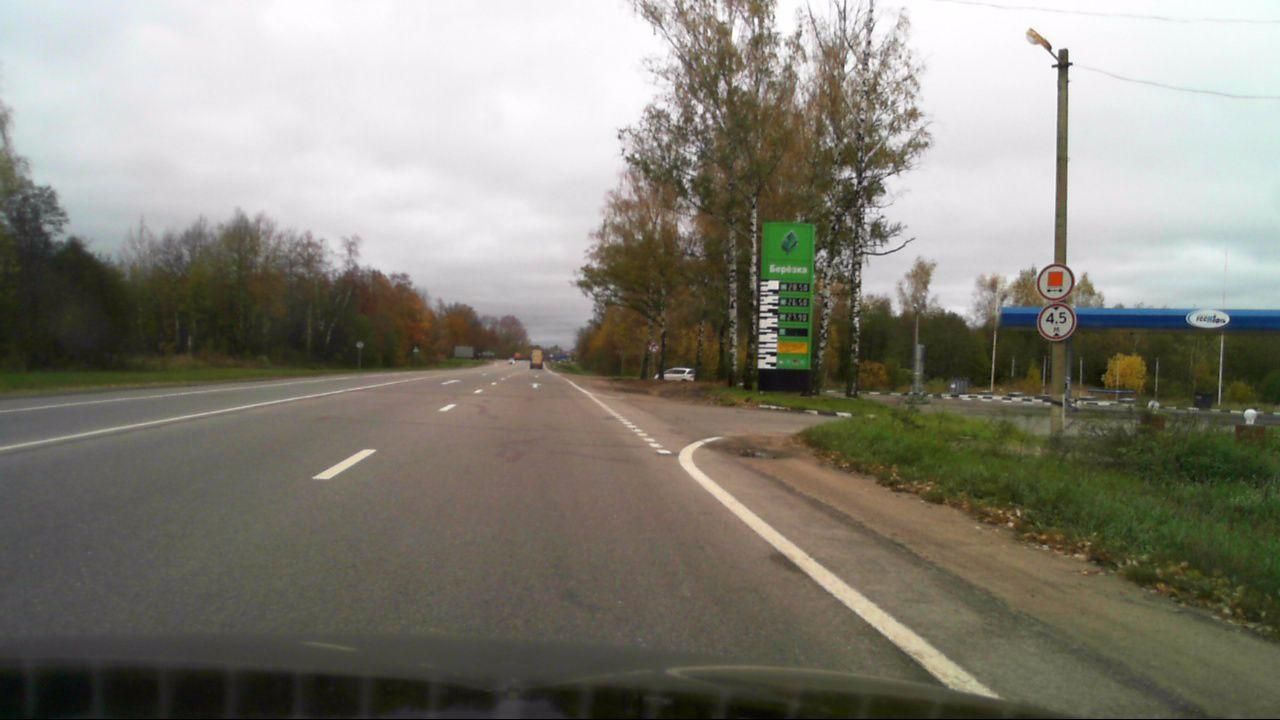3_13: (1037, 303, 1077, 342)
3_18_1: (646, 340, 661, 355)
3_32: (1035, 261, 1081, 301)
